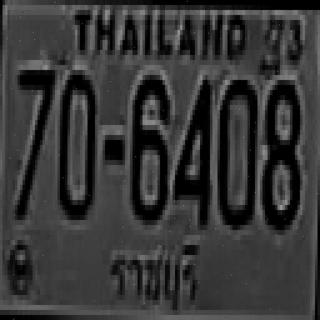N00: (218, 75, 255, 225), (58, 70, 95, 215)
N04: (172, 75, 210, 225)
N06: (130, 70, 168, 220)
N07: (15, 65, 52, 215)
N08: (260, 80, 298, 225)
P52: (105, 233, 200, 315)
